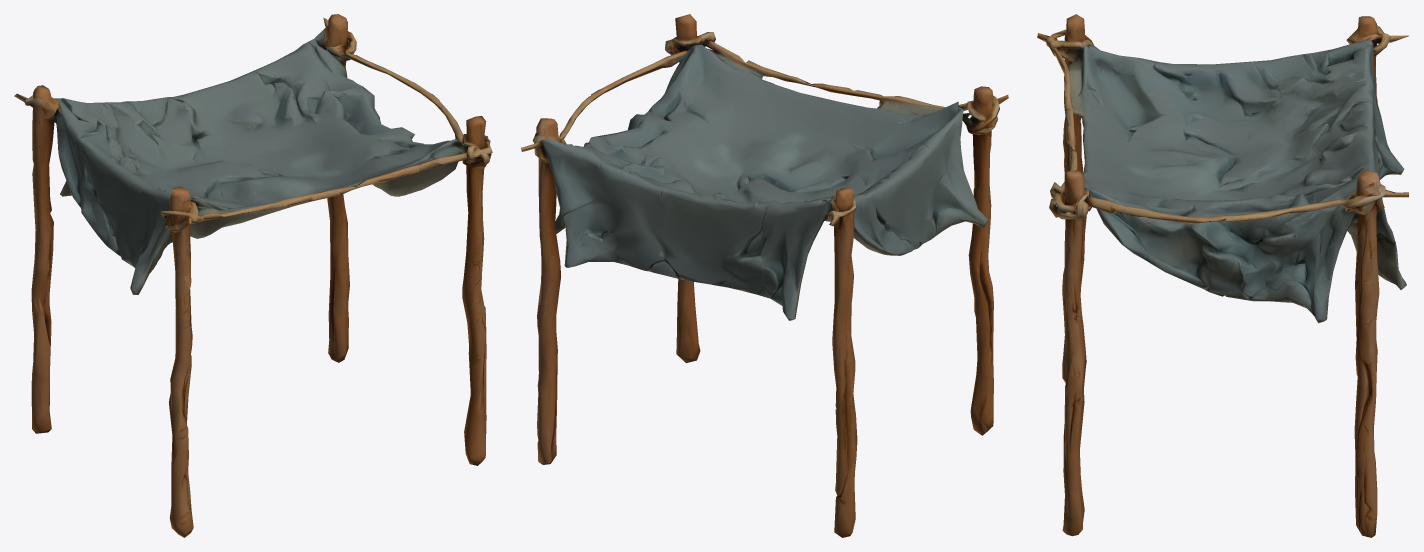
The model's file is canopy.glb.
3 views of the same model, side by side, from view 1: azimuth 30°, elevation 25°; view 2: azimuth 150°, elevation 25°; view 3: azimuth 270°, elevation 25° (orthographic). The views are drawn at different scales.
Visible parts, largest first — view 1: tripo_node_9683becf-74a2-400f-ba29-0e44f0199b6c; view 2: tripo_node_9683becf-74a2-400f-ba29-0e44f0199b6c; view 3: tripo_node_9683becf-74a2-400f-ba29-0e44f0199b6c.
Boxes of the visible parts, x1,y1,x2,y2 form: tripo_node_9683becf-74a2-400f-ba29-0e44f0199b6c: (14,14,492,537); tripo_node_9683becf-74a2-400f-ba29-0e44f0199b6c: (521,14,1008,537); tripo_node_9683becf-74a2-400f-ba29-0e44f0199b6c: (1037,14,1408,537).
Size of the model in its own units: 1 by 0.9501 by 0.8752.
1 material, 1 textured.
